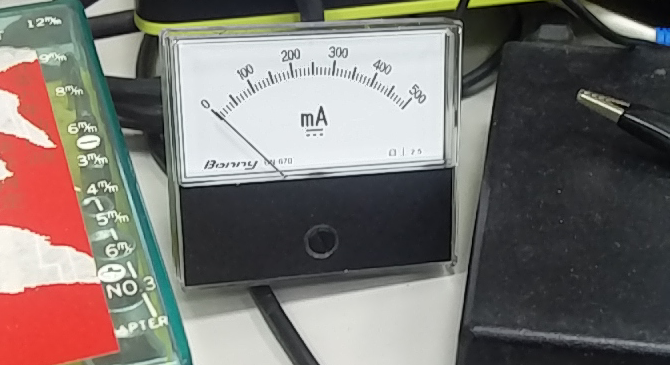MilliAmp_Meter: (165, 27, 457, 178)
